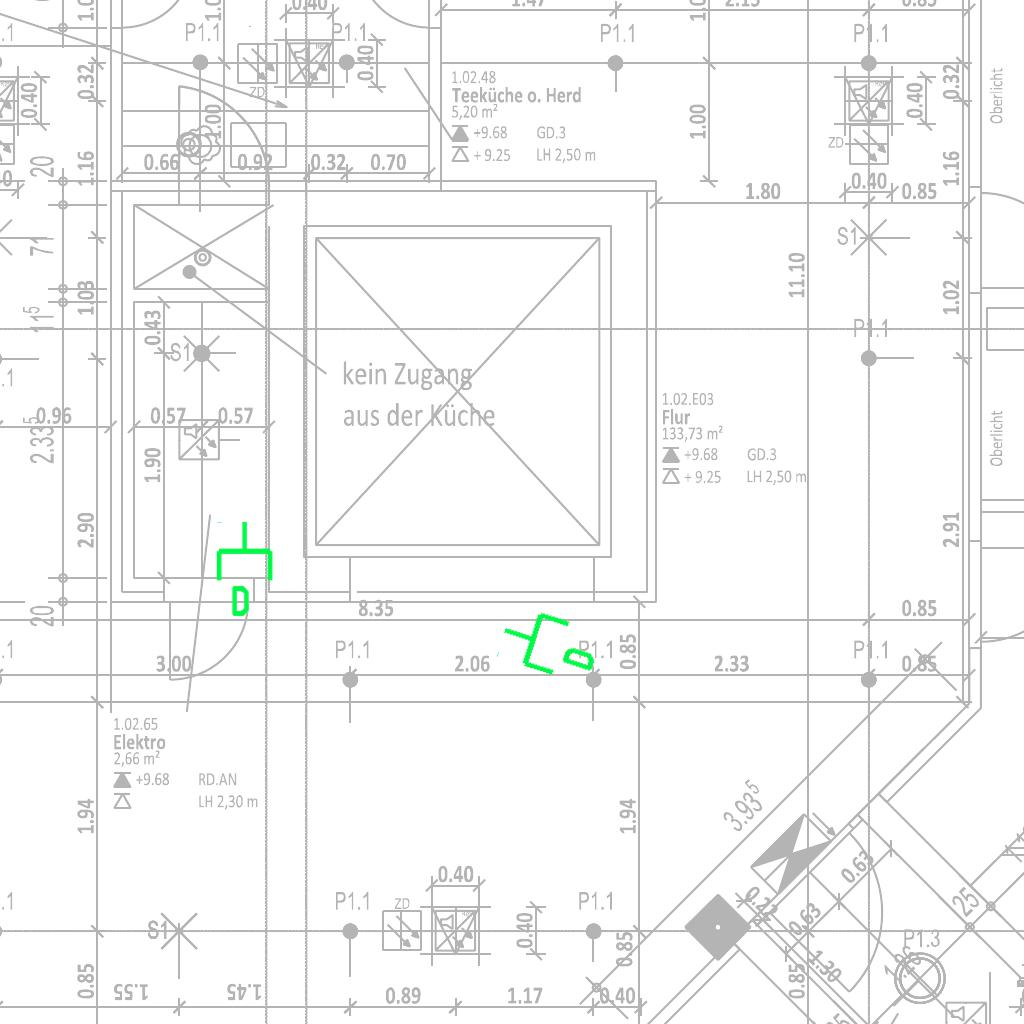Datenanschluss_einfach: (492, 594, 609, 692), (212, 519, 281, 619)
